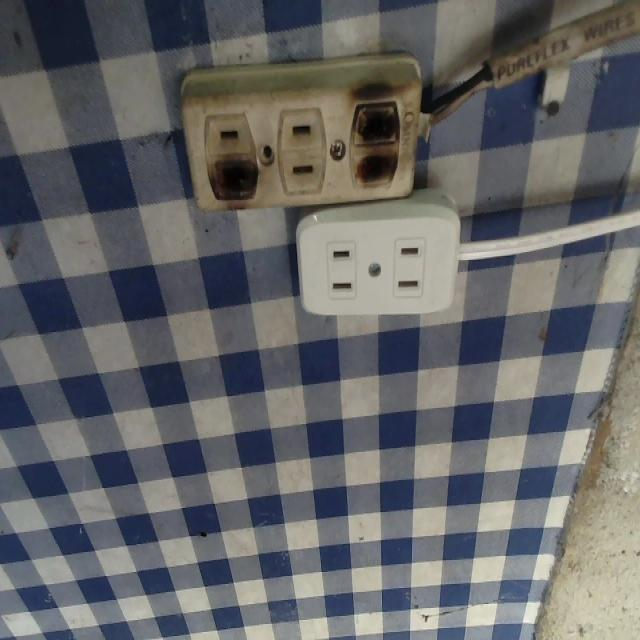-: (346, 92, 403, 193), (198, 157, 266, 208)
